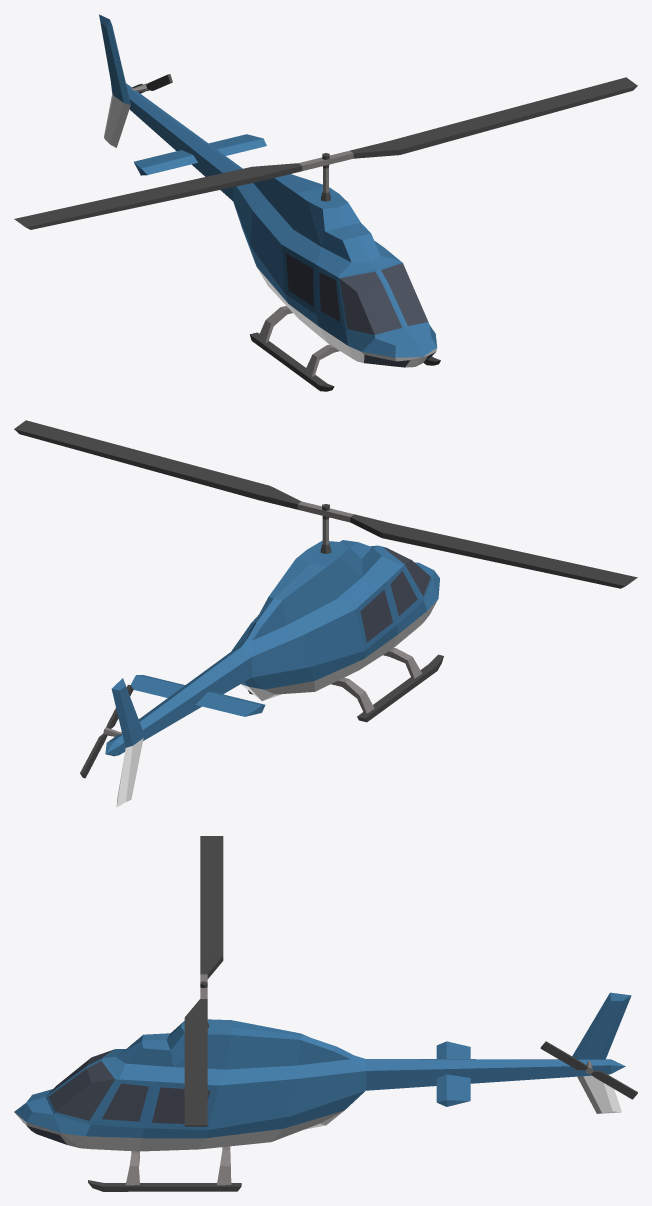
Rendered from helicopter.fbx.
3 views of the same model, one above another, from view 1: azimuth 30°, elevation 25°; view 2: azimuth 150°, elevation 25°; view 3: azimuth 270°, elevation 25° (orthographic). The views are drawn at different scales.
Visible parts, largest first — view 1: helicopter-base, helicopter-propeller-main; view 2: helicopter-base, helicopter-propeller-main, helicopter-propeller-small; view 3: helicopter-base, helicopter-propeller-main, helicopter-propeller-small.
Part boxes in pixels (<box>): helicopter-base: <box>99,14,440,391</box>; helicopter-propeller-main: <box>14,77,637,229</box>; helicopter-base: <box>105,540,443,807</box>; helicopter-propeller-main: <box>14,420,637,588</box>; helicopter-propeller-small: <box>80,684,133,778</box>; helicopter-base: <box>14,992,631,1191</box>; helicopter-propeller-main: <box>184,836,223,1126</box>; helicopter-propeller-small: <box>540,1041,637,1099</box>.
Size of the model in its own units: 10.16 by 3.01 by 9.26.
